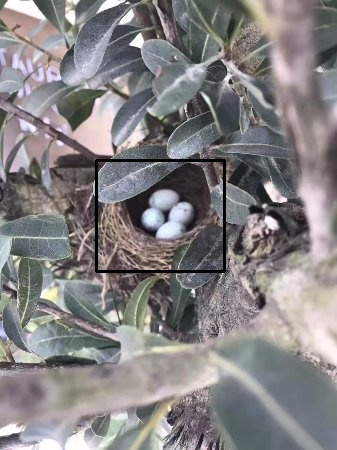bird-nest: (96, 160, 224, 271)
